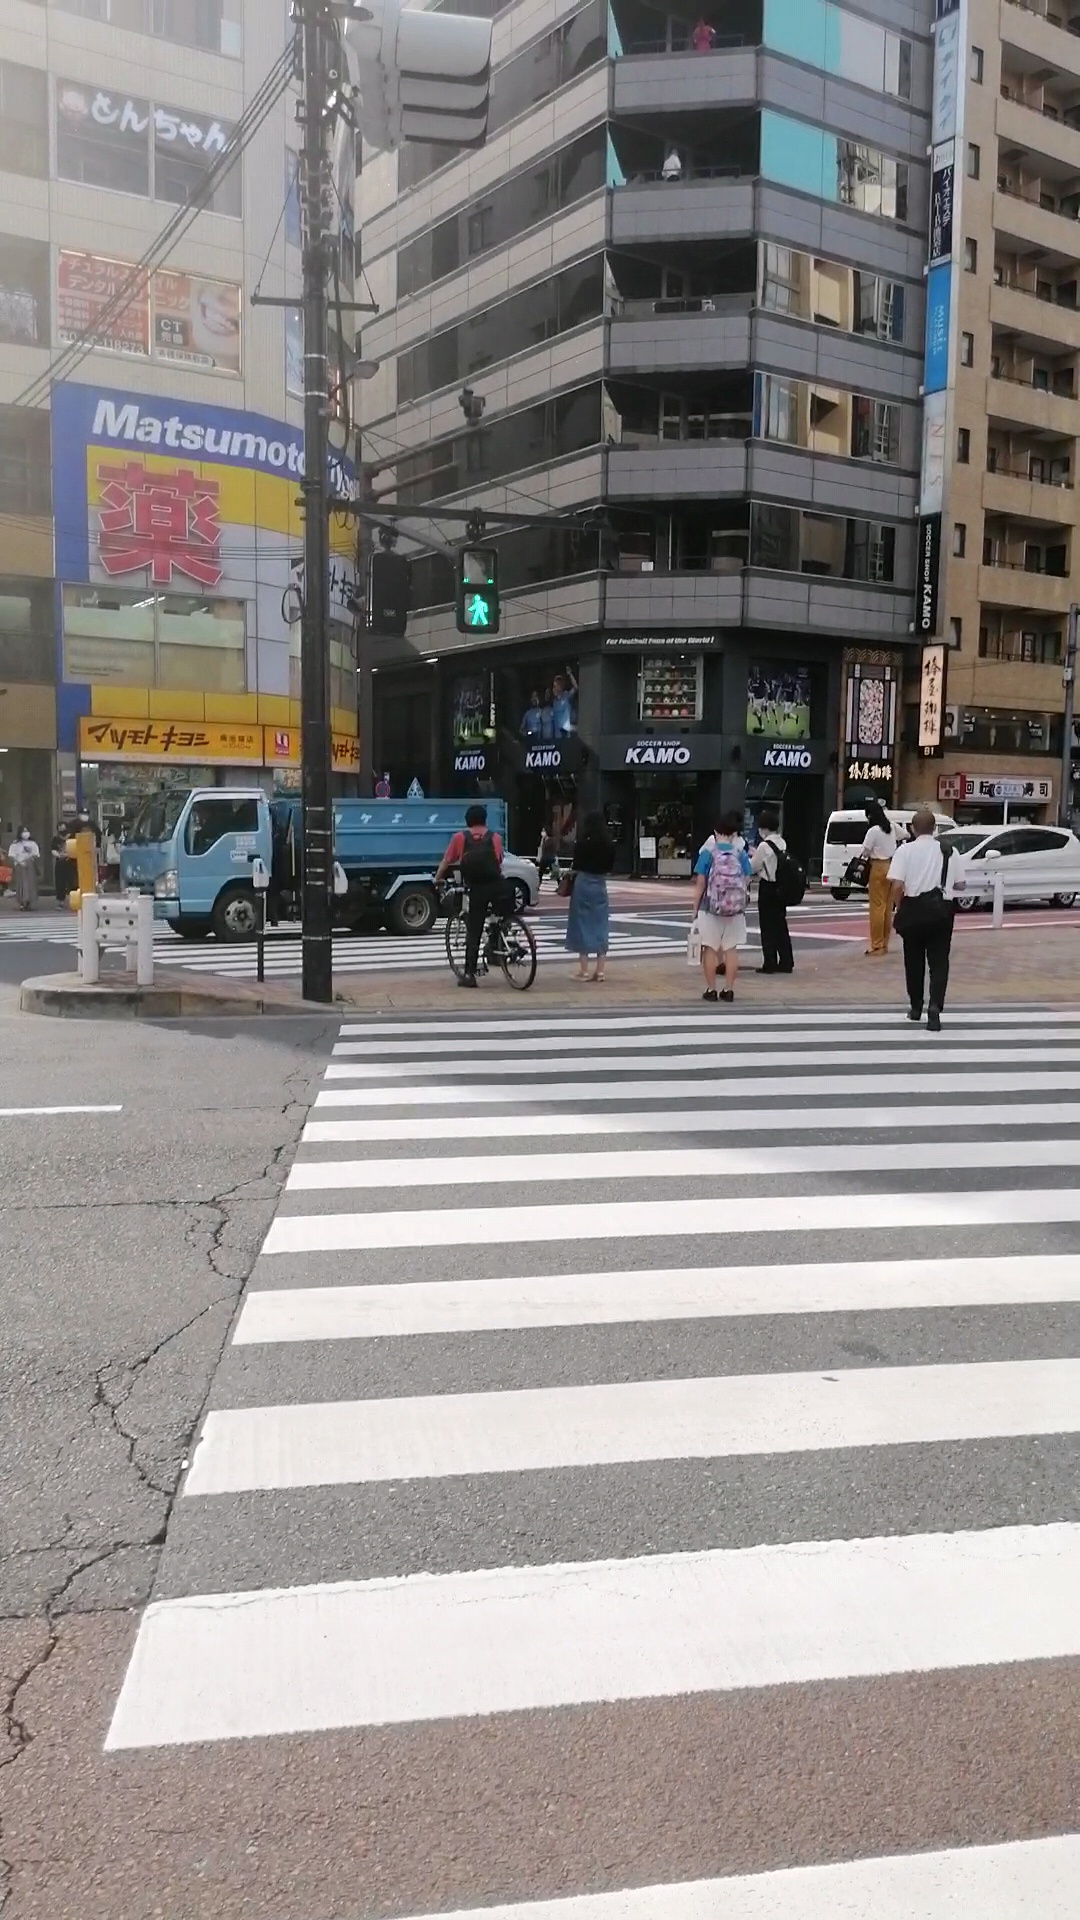green: (458, 543, 500, 634)
